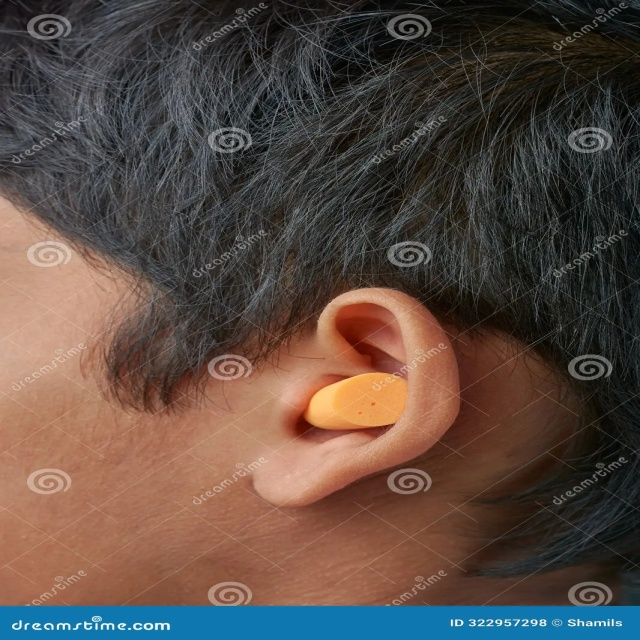Hearing_Protection: (309, 348, 402, 433)
